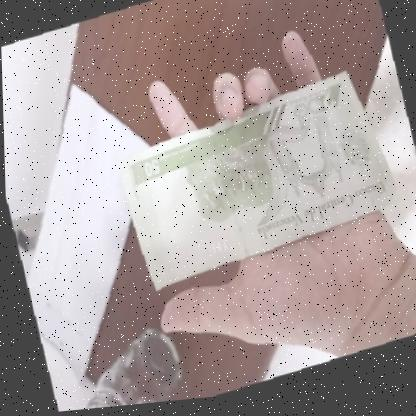fifty-back-vef: (111, 69, 405, 299)
